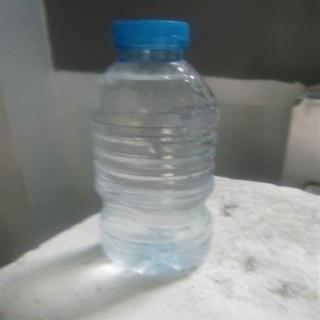Anorganik: (91, 14, 222, 282)
